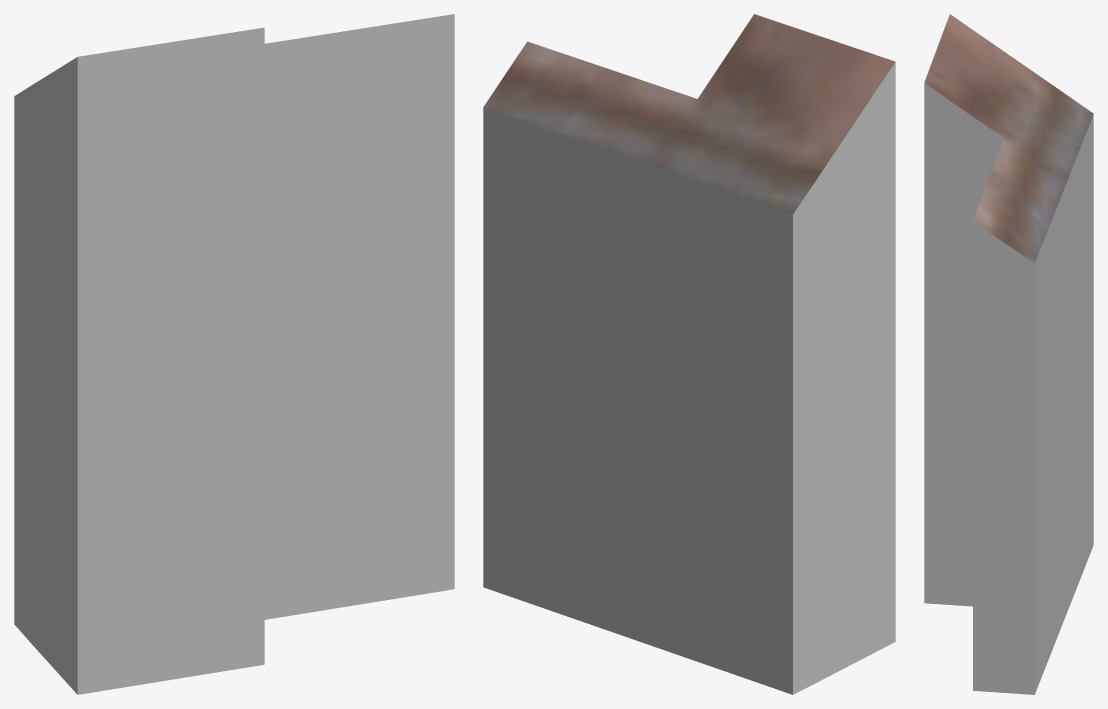
Rendered from DEBW_0010007THXP.gltf.
The picture shows the model from 3 angles, left to right: view 1: azimuth 30°, elevation 25°; view 2: azimuth 150°, elevation 25°; view 3: azimuth 270°, elevation 25°; orthographic projection. The views are drawn at different scales.
Parts seen in each view (by area): view 1: Z_UP; view 2: Z_UP; view 3: Z_UP.
Part boxes in pixels (left/top/right/bottom): Z_UP: left=14, top=14, right=454, bottom=694; Z_UP: left=483, top=14, right=895, bottom=694; Z_UP: left=924, top=14, right=1093, bottom=694.
Size of the model in its own units: 8.39 by 12.74 by 3.76.
Materials: 2 (1 with a texture image).
